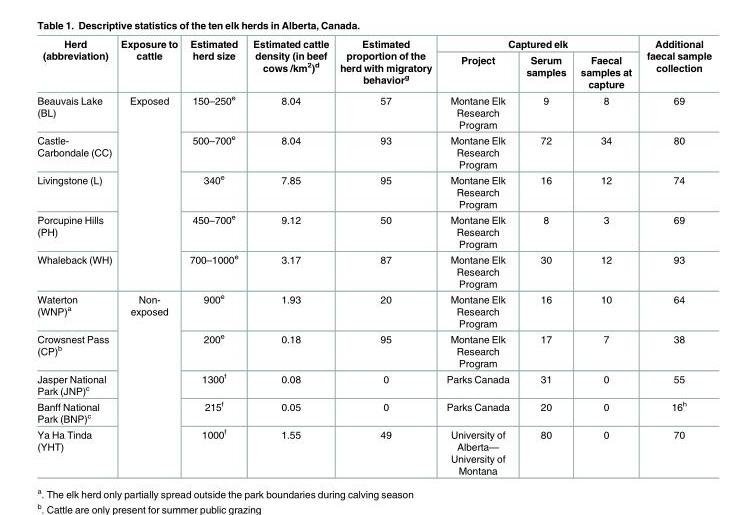table: (36, 37, 710, 475)
table column: (333, 37, 438, 475), (244, 37, 333, 475), (36, 37, 115, 475), (438, 37, 517, 475), (638, 37, 710, 475), (115, 37, 183, 475), (572, 37, 638, 475), (183, 37, 244, 475), (517, 37, 572, 475)
table column header: (36, 37, 710, 91)
table row: (36, 425, 710, 475), (36, 51, 710, 91), (36, 91, 710, 131), (36, 131, 710, 171), (36, 210, 710, 250), (36, 250, 710, 290), (36, 290, 710, 330), (36, 171, 710, 210), (36, 330, 710, 369), (36, 369, 710, 397), (36, 397, 710, 425), (36, 37, 710, 51)
table spanning cell: (115, 91, 183, 290), (115, 290, 183, 475), (333, 37, 438, 91), (244, 37, 333, 91), (36, 37, 115, 91), (638, 37, 710, 91), (115, 37, 183, 91), (183, 37, 244, 91), (438, 37, 638, 51)
